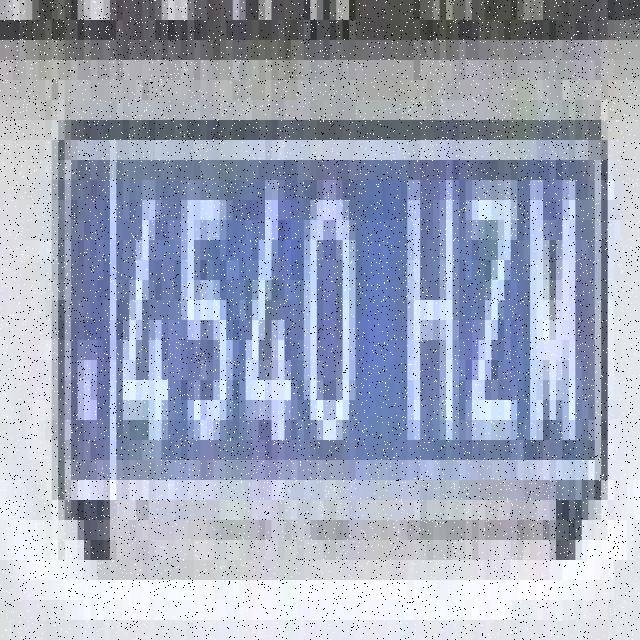licenseplate: (58, 116, 608, 500)
